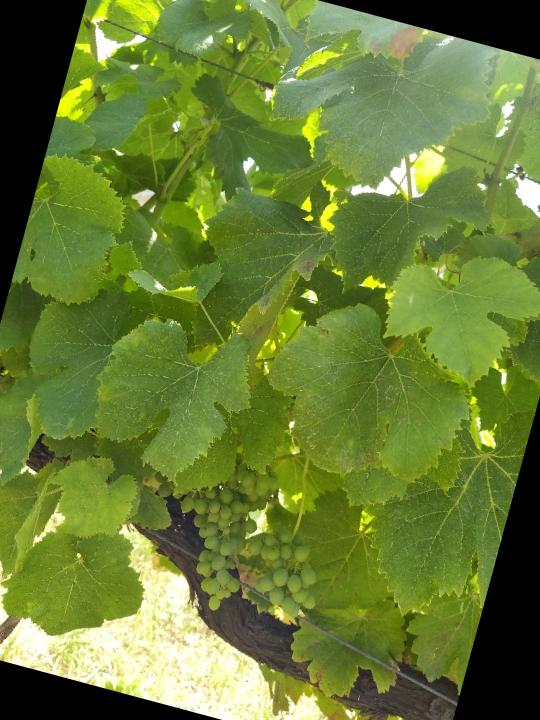grape: (148, 446, 352, 639)
